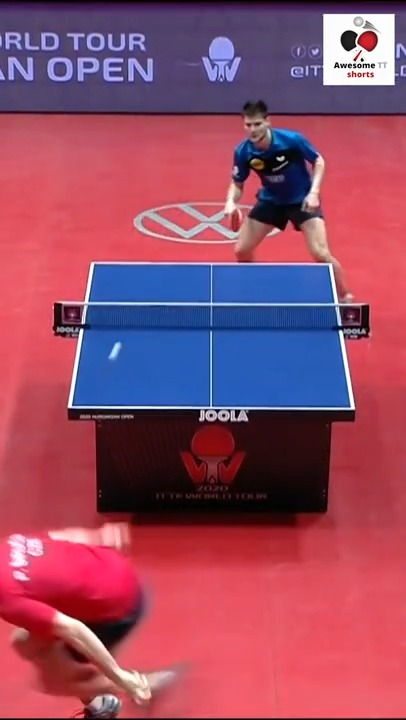Ball: (108, 339, 121, 358)
